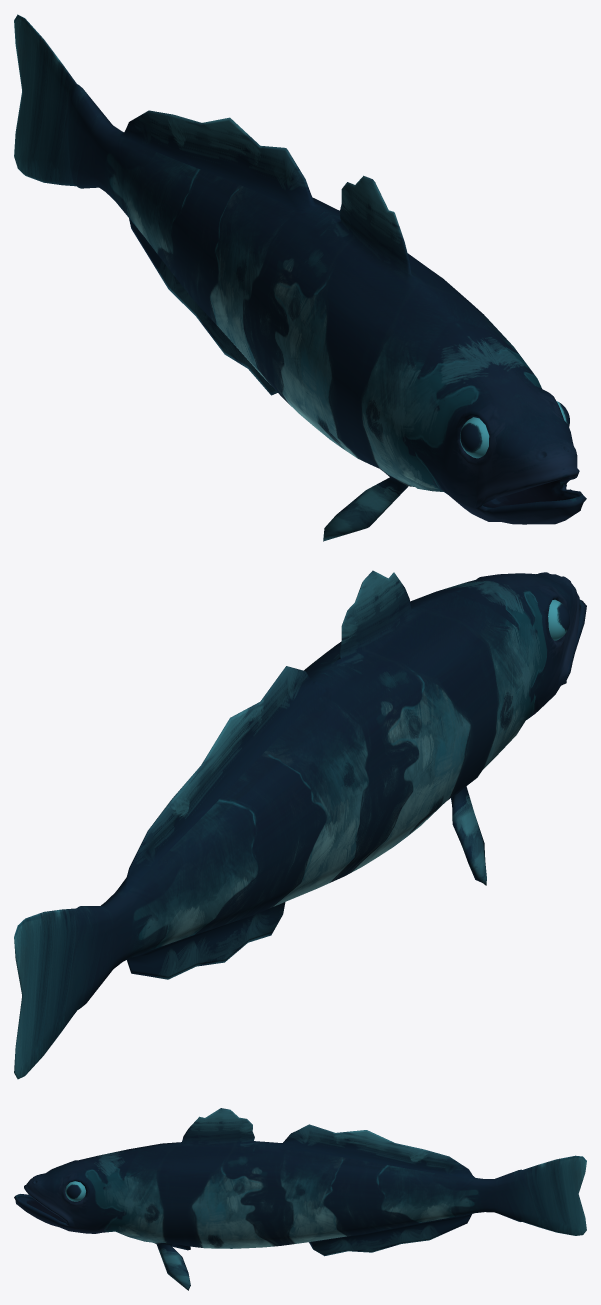
File: poisson.fbx
3 views of the same model, one above another, from view 1: azimuth 30°, elevation 25°; view 2: azimuth 150°, elevation 25°; view 3: azimuth 270°, elevation 25° (orthographic). The views are drawn at different scales.
Parts seen in each view (by area): view 1: poisson, yeux_poisson; view 2: poisson, yeux_poisson; view 3: poisson, yeux_poisson.
Boxes of the visible parts, x1,y1,x2,y2 form: poisson: [14, 14, 586, 541]; yeux_poisson: [460, 401, 569, 458]; poisson: [14, 570, 586, 1079]; yeux_poisson: [548, 599, 569, 640]; poisson: [14, 1108, 586, 1290]; yeux_poisson: [65, 1181, 85, 1201].
Bounding box in the file's own units: 2.82 × 5.27 × 16.81.
2 materials, 2 textured.
